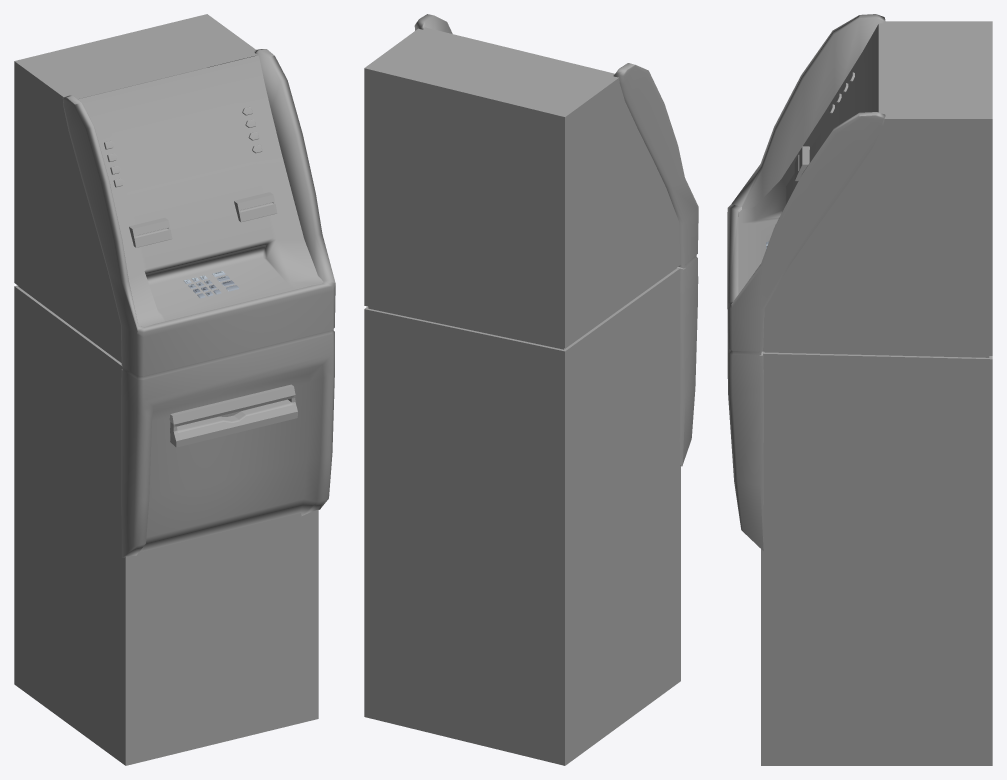
File: ATM.fbx
3 views of the same model, side by side, from view 1: azimuth 30°, elevation 25°; view 2: azimuth 150°, elevation 25°; view 3: azimuth 270°, elevation 25° (orthographic). The views are drawn at different scales.
Visible parts, largest first — view 1: ATM, buttom_arrow; view 2: ATM; view 3: ATM.
Boxes of the visible parts, x1,y1,x2,y2 form: ATM: [14, 14, 335, 765]; buttom_arrow: [104, 106, 262, 187]; ATM: [364, 14, 698, 765]; ATM: [727, 14, 992, 765].
Bounding box in the file's own units: 50.7 × 152 × 55.87.
Materials: 2 (1 with a texture image).
